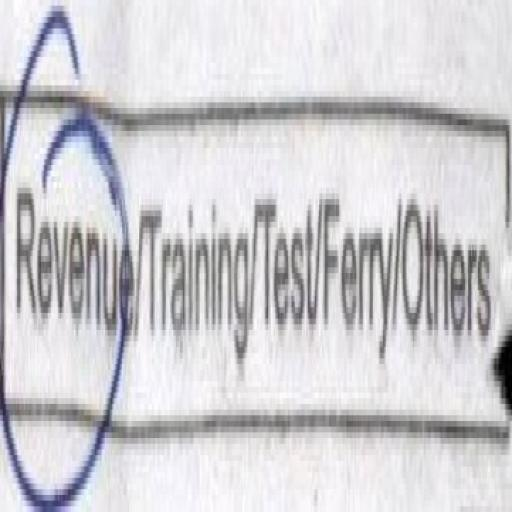check: (2, 0, 136, 507)
